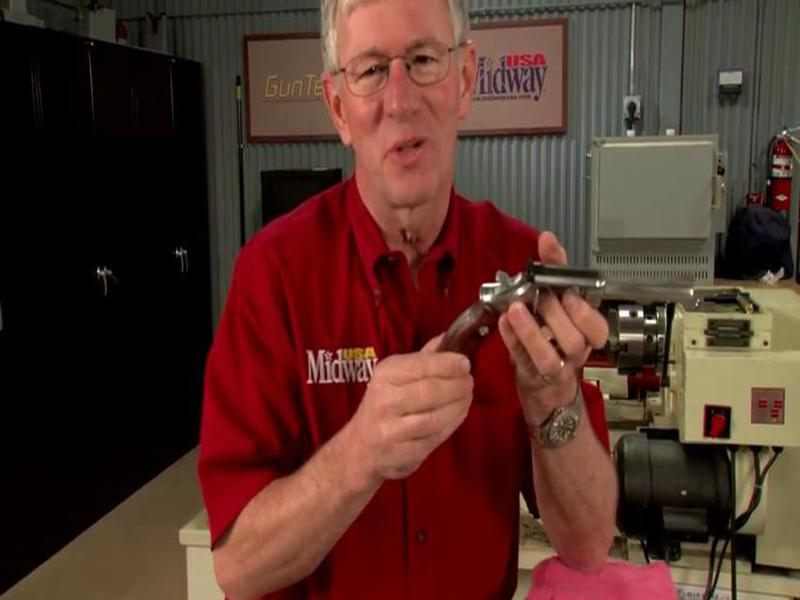Revolver: (413, 245, 759, 411)
